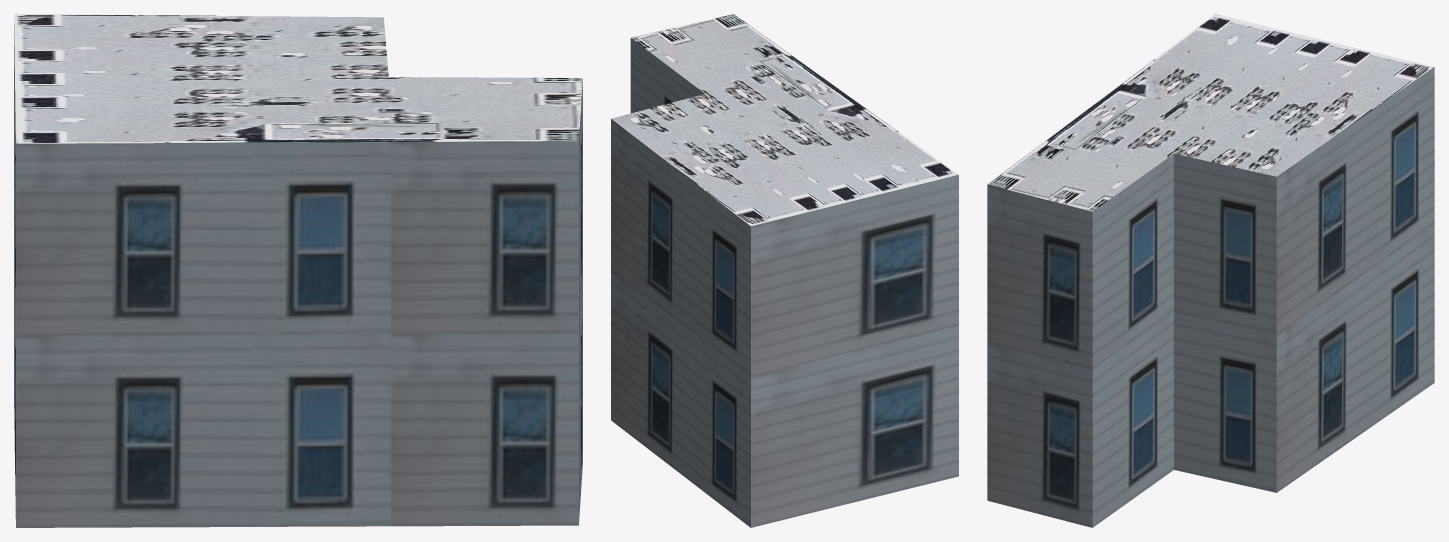
File: ResTex__5332.fbx
3 views of the same model, side by side, from view 1: azimuth 30°, elevation 25°; view 2: azimuth 150°, elevation 25°; view 3: azimuth 270°, elevation 25° (orthographic). The views are drawn at different scales.
Parts seen in each view (by area): view 1: CityEngineMaterial_18_m, CityEngineMaterial_8_m; view 2: CityEngineMaterial_18_m, CityEngineMaterial_8_m; view 3: CityEngineMaterial_18_m, CityEngineMaterial_8_m.
Part boxes in pixels (x1,y1,x2,y2): CityEngineMaterial_18_m: (14, 24, 582, 527); CityEngineMaterial_8_m: (14, 14, 582, 143); CityEngineMaterial_18_m: (611, 38, 958, 527); CityEngineMaterial_8_m: (611, 14, 958, 226); CityEngineMaterial_18_m: (987, 67, 1434, 527); CityEngineMaterial_8_m: (987, 14, 1434, 211).
Size of the model in its own units: 8.05 by 6 by 7.69.
Materials: 2 (2 with a texture image).
